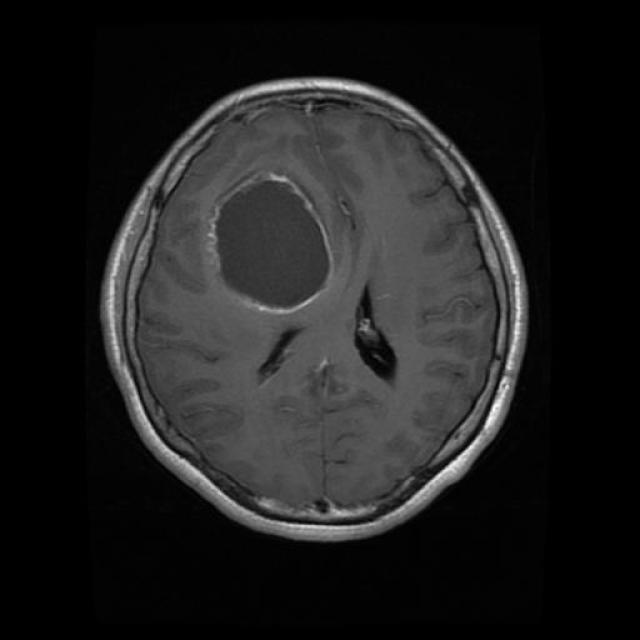glioma: (211, 171, 335, 314)
